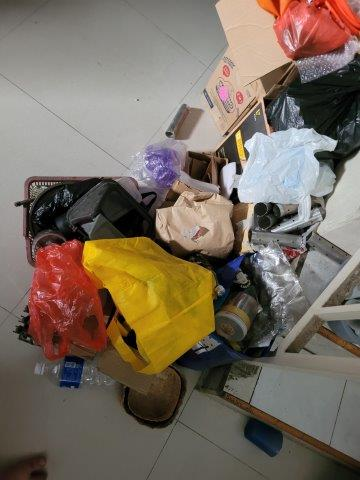botolplastik: (39, 359, 123, 393)
kardus: (198, 2, 279, 130)
plastik: (20, 241, 110, 360), (234, 127, 333, 215), (275, 53, 360, 152), (269, 3, 360, 60), (137, 141, 189, 196)
